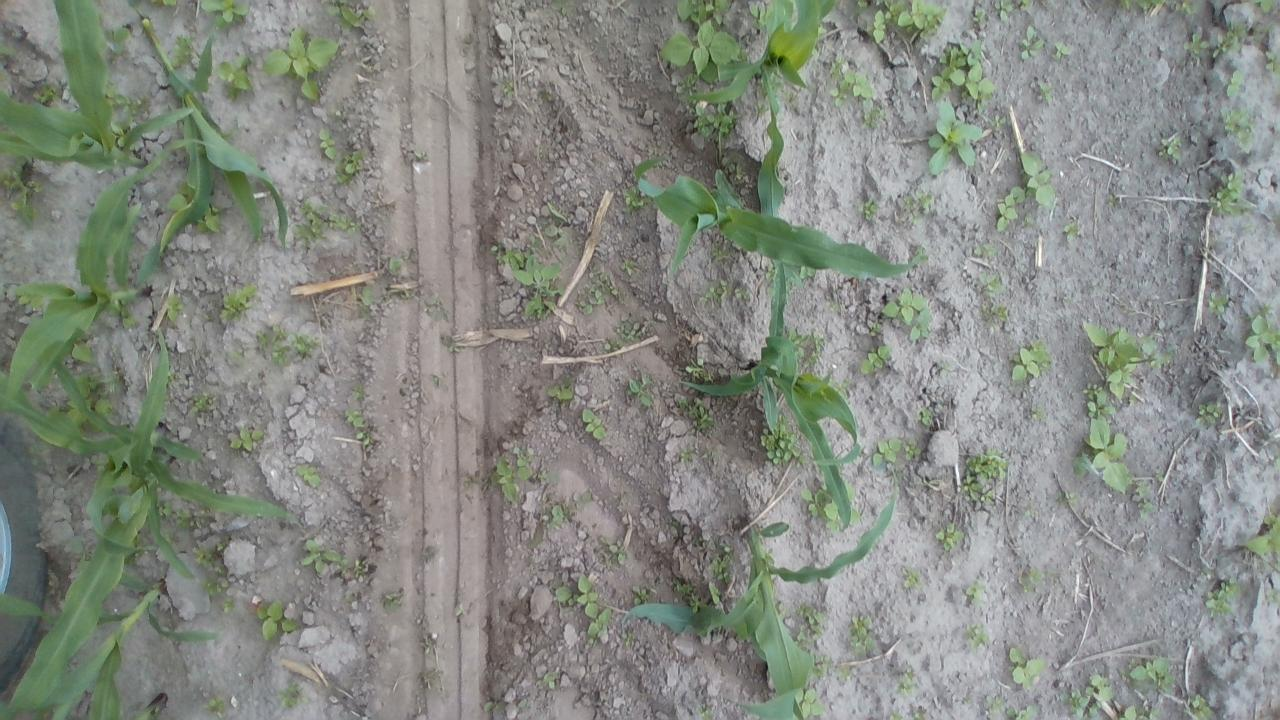Maize: (1, 327, 198, 719), (2, 357, 302, 580), (619, 494, 898, 716), (631, 65, 920, 278), (6, 137, 214, 398), (675, 255, 861, 531), (138, 15, 290, 287), (1, 0, 191, 169), (0, 591, 214, 720), (678, 0, 836, 104), (128, 696, 168, 720)
Weeds: (262, 23, 340, 100), (1080, 320, 1143, 402), (659, 18, 744, 77), (498, 248, 558, 323), (929, 41, 996, 103), (929, 98, 980, 176), (1082, 416, 1130, 493), (554, 572, 612, 634), (1, 158, 44, 224), (962, 446, 1011, 502), (296, 203, 357, 246), (1234, 504, 1280, 555), (1247, 301, 1280, 368), (1068, 670, 1112, 718), (1022, 148, 1058, 206), (1212, 168, 1256, 214), (1226, 104, 1264, 156), (800, 484, 836, 535), (575, 276, 623, 314), (74, 368, 115, 412), (762, 421, 802, 465), (1012, 339, 1054, 380), (827, 69, 873, 106), (879, 286, 925, 322), (218, 56, 253, 102), (694, 102, 740, 137), (218, 284, 260, 322), (899, 1, 944, 36), (1011, 646, 1048, 688), (1132, 654, 1172, 692), (257, 598, 294, 638), (846, 612, 878, 658), (327, 0, 379, 27), (299, 540, 340, 574), (491, 455, 520, 502), (790, 332, 826, 369), (796, 602, 829, 642), (676, 0, 733, 23), (252, 327, 286, 365), (998, 185, 1024, 232), (202, 0, 249, 25), (710, 536, 736, 581), (334, 148, 364, 186), (1194, 399, 1228, 431), (513, 446, 543, 481), (675, 580, 704, 616), (626, 370, 654, 407), (687, 397, 716, 432), (228, 426, 264, 454), (170, 31, 196, 68), (157, 500, 197, 524), (102, 26, 132, 58), (1017, 23, 1043, 59), (798, 688, 828, 718), (860, 345, 890, 375), (870, 435, 902, 463), (934, 524, 966, 552), (672, 70, 704, 97), (542, 201, 568, 234), (908, 308, 932, 342), (1086, 391, 1116, 418), (278, 683, 309, 708), (548, 380, 579, 405), (583, 409, 609, 438), (1225, 18, 1251, 47), (982, 302, 1012, 326), (1206, 589, 1230, 617), (16, 286, 46, 308), (198, 207, 223, 233), (746, 1, 772, 26), (706, 278, 727, 308), (620, 186, 644, 212), (33, 82, 59, 105), (1019, 565, 1042, 590), (358, 282, 384, 304), (540, 504, 566, 526), (618, 314, 640, 340), (609, 536, 628, 566), (978, 271, 1002, 294), (106, 84, 131, 106), (1162, 132, 1180, 162), (400, 142, 426, 162), (1220, 576, 1246, 596), (1208, 288, 1228, 314), (1006, 702, 1038, 718), (991, 0, 1014, 22), (298, 464, 322, 485), (897, 194, 915, 222), (1184, 31, 1208, 52), (70, 342, 95, 362), (1225, 68, 1242, 96), (872, 9, 886, 42), (902, 566, 922, 589), (428, 296, 448, 318), (295, 334, 315, 356), (1212, 36, 1232, 58), (972, 628, 994, 648), (1038, 80, 1058, 102), (1139, 336, 1164, 353), (203, 576, 224, 596), (1190, 693, 1210, 714), (902, 440, 922, 461), (572, 489, 594, 508), (861, 109, 883, 128), (165, 296, 182, 320), (320, 131, 335, 158), (384, 591, 404, 611), (344, 407, 365, 426), (632, 586, 654, 604), (735, 282, 753, 304), (1150, 352, 1174, 368), (357, 430, 376, 450), (884, 1, 904, 20), (920, 407, 940, 426), (1264, 46, 1278, 72), (0, 43, 20, 61), (972, 243, 996, 258), (834, 378, 854, 396), (1070, 456, 1088, 476), (840, 663, 861, 680), (813, 659, 830, 680), (190, 548, 212, 564), (972, 8, 989, 28), (730, 162, 746, 183), (1065, 222, 1081, 243), (684, 358, 706, 373), (354, 556, 372, 574), (1251, 0, 1278, 12), (191, 395, 210, 412), (120, 310, 136, 330), (619, 259, 640, 274), (1124, 706, 1146, 720), (711, 246, 730, 262), (602, 335, 622, 350), (1081, 384, 1106, 396), (206, 696, 224, 712), (1051, 42, 1069, 58), (680, 446, 699, 461), (988, 694, 1008, 708), (966, 585, 986, 599), (1138, 497, 1152, 517), (895, 681, 918, 693), (1176, 2, 1200, 13), (348, 384, 368, 397), (799, 266, 820, 278), (624, 626, 636, 646), (916, 195, 932, 208), (1253, 22, 1266, 38), (863, 200, 875, 217), (989, 115, 1007, 126), (700, 704, 714, 718), (1134, 480, 1148, 494), (222, 598, 235, 612), (388, 255, 402, 268), (543, 670, 556, 684), (1150, 468, 1163, 482), (152, 0, 182, 6), (915, 706, 930, 718), (888, 706, 904, 717), (1030, 406, 1046, 417), (902, 664, 916, 676), (503, 81, 514, 96), (1060, 492, 1076, 502), (1018, 0, 1032, 11), (829, 62, 840, 74), (449, 344, 462, 354), (1122, 0, 1132, 13), (873, 322, 883, 334), (1139, 0, 1148, 13), (853, 510, 860, 524), (848, 488, 856, 498), (858, 0, 869, 6), (1152, 0, 1158, 7)
